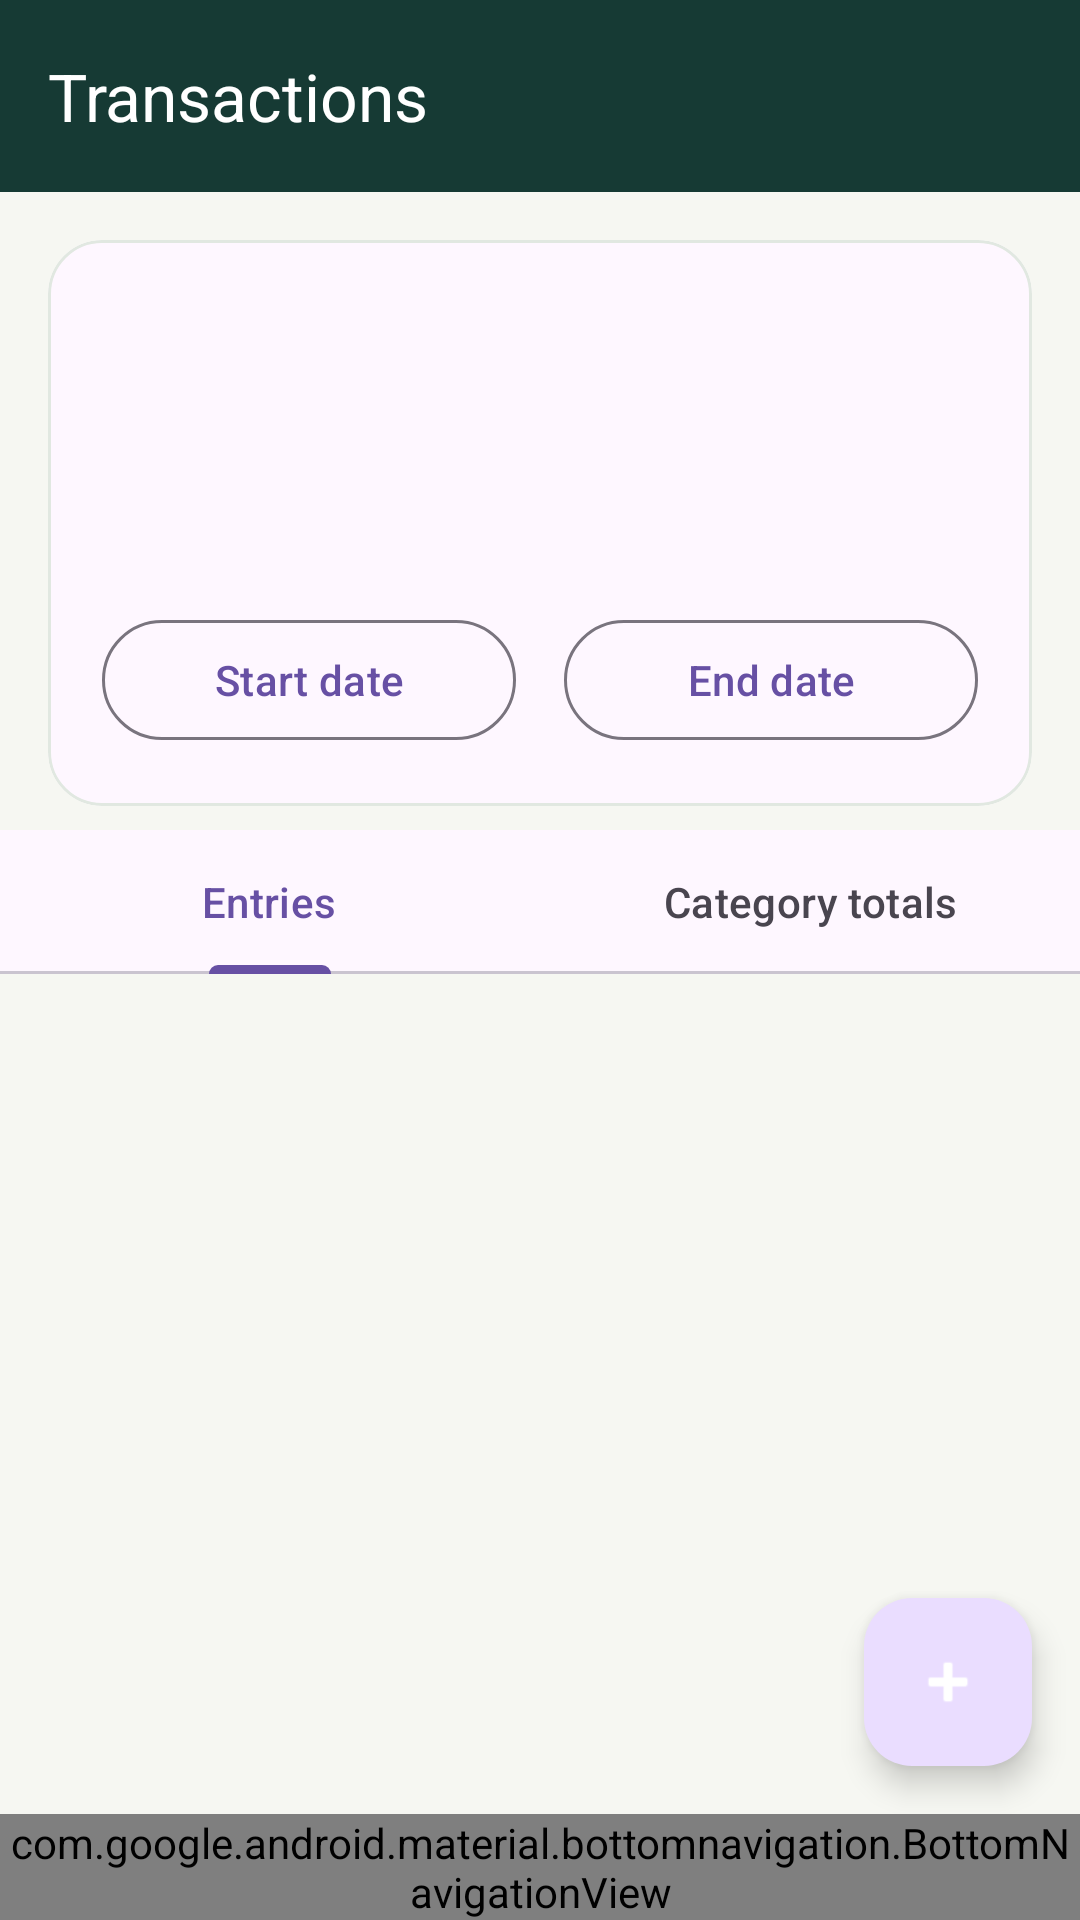

Named icons in this screenshot (1080 x 1920) and their centers, point (x, y):
add: point (948, 1682)
